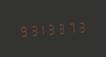nine: (17, 22, 26, 38)
one: (37, 21, 46, 37)
seven: (67, 18, 76, 35)
three: (27, 21, 36, 38), (57, 19, 66, 36), (47, 20, 56, 36), (77, 18, 86, 34)
